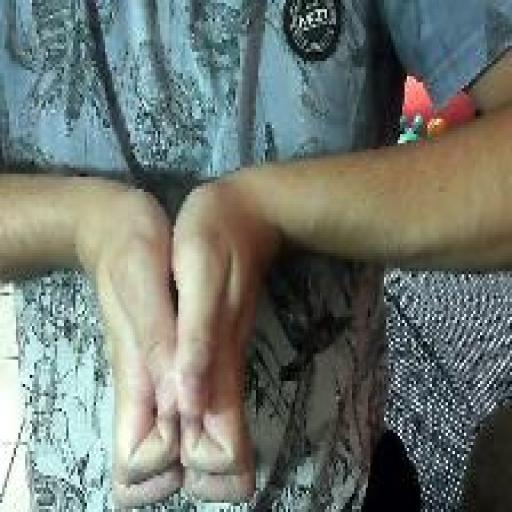I -boar-: (92, 167, 257, 512)
